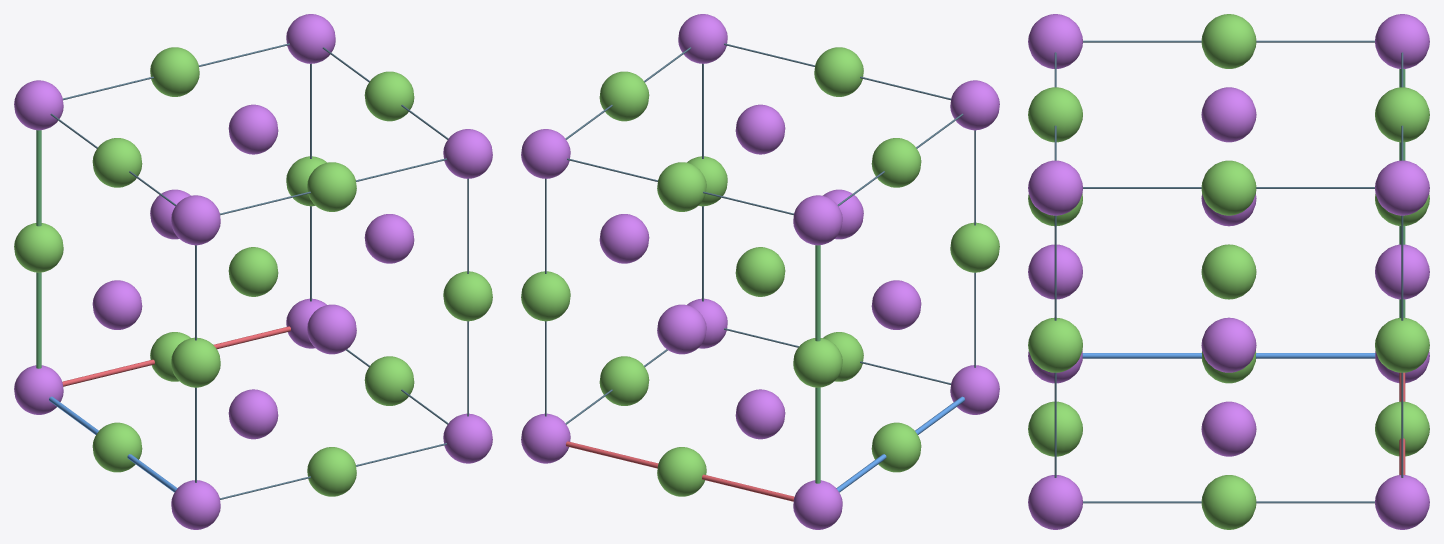
The model's file is chat-lithium-fluoride.glb.
3 renders of one model, left to right at view 1: azimuth 30°, elevation 25°; view 2: azimuth 150°, elevation 25°; view 3: azimuth 270°, elevation 25°, orthographic. The views are drawn at different scales.
Visible parts, largest first — view 1: Li1 · Li · 1 (×14), F1 · F · 1 (×13), Ô mạng và các trục a, b, c; view 2: Li1 · Li · 1 (×14), F1 · F · 1 (×13), Ô mạng và các trục a, b, c; view 3: Li1 · Li · 1 (×14), F1 · F · 1 (×13), Ô mạng và các trục a, b, c.
Boxes of the visible parts, bbox=[...] form: Li1 · Li · 1 (×14): bbox=[14, 14, 492, 529]; F1 · F · 1 (×13): bbox=[14, 47, 492, 496]; Ô mạng và các trục a, b, c: bbox=[36, 43, 468, 499]; Li1 · Li · 1 (×14): bbox=[521, 14, 999, 529]; F1 · F · 1 (×13): bbox=[521, 47, 999, 496]; Ô mạng và các trục a, b, c: bbox=[545, 43, 975, 501]; Li1 · Li · 1 (×14): bbox=[1028, 14, 1429, 529]; F1 · F · 1 (×13): bbox=[1028, 14, 1429, 529]; Ô mạng và các trục a, b, c: bbox=[1054, 40, 1405, 503].
Bounding box in the file's own units: 4.67 × 4.67 × 4.67.
